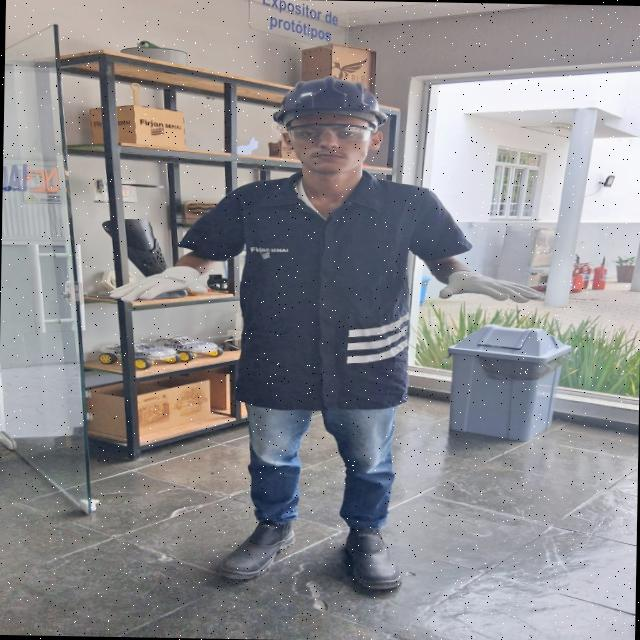BOTA: (214, 521, 298, 578), (342, 518, 406, 592)
CAPACETE: (269, 73, 391, 127)
JALECO: (177, 166, 480, 411)
LUVA: (110, 265, 211, 308), (433, 269, 548, 304)
OCULOS: (282, 123, 382, 146)
